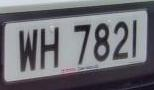1: (128, 14, 143, 62)
2: (110, 15, 131, 62)
7: (69, 20, 93, 66)
8: (91, 17, 111, 62)
H: (39, 23, 63, 75)
W: (16, 24, 40, 77)
